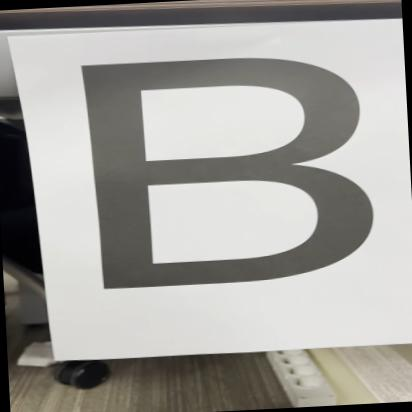seat: (63, 33, 396, 300)
